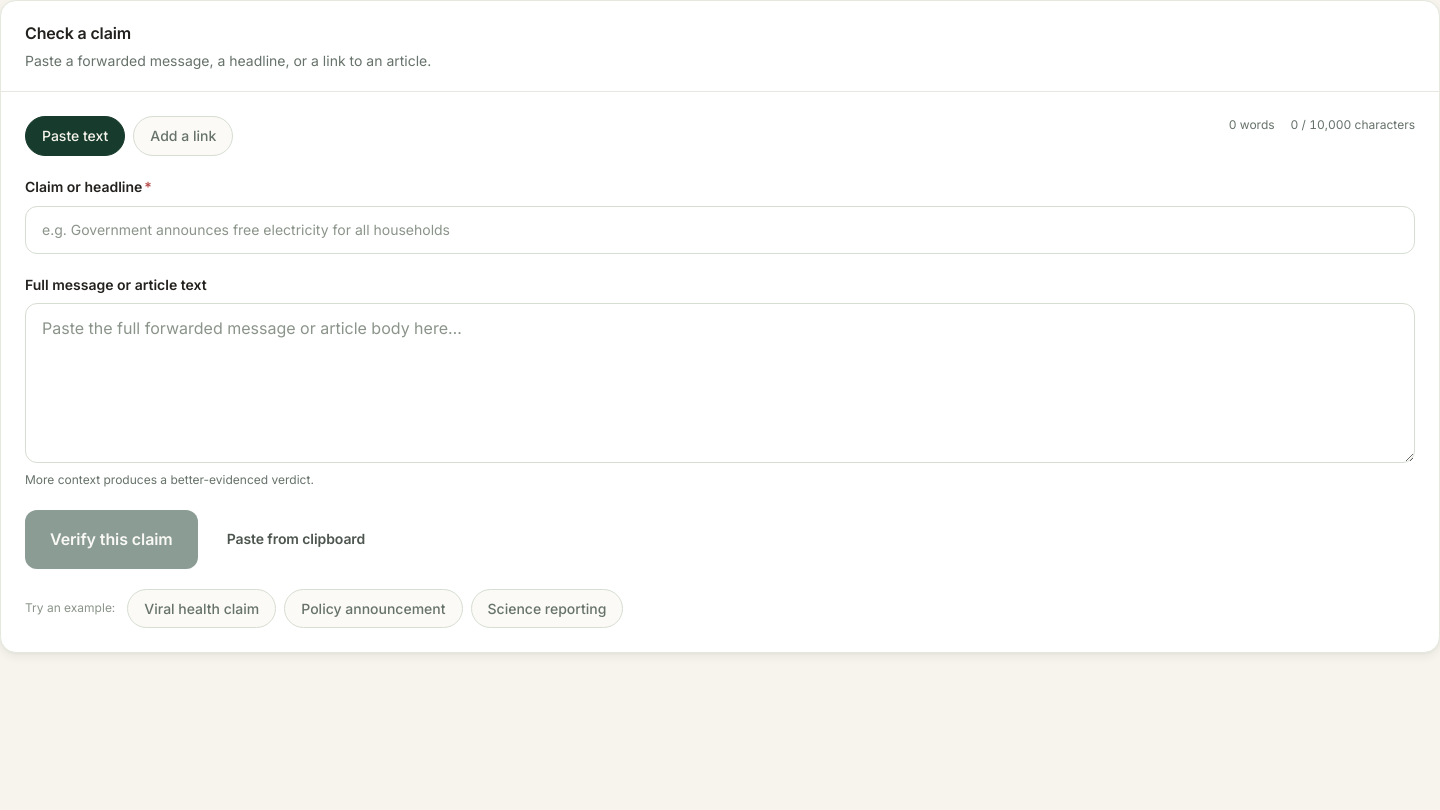
Test case: TC-FLOW-01 VerifyWorkspace input handling › reveals the link field only in link mode
Check: the field labelled "Source link" is not shown
Step 1. Click the button "Add a link" → (183,136), box left=133, top=116, right=233, bottom=156
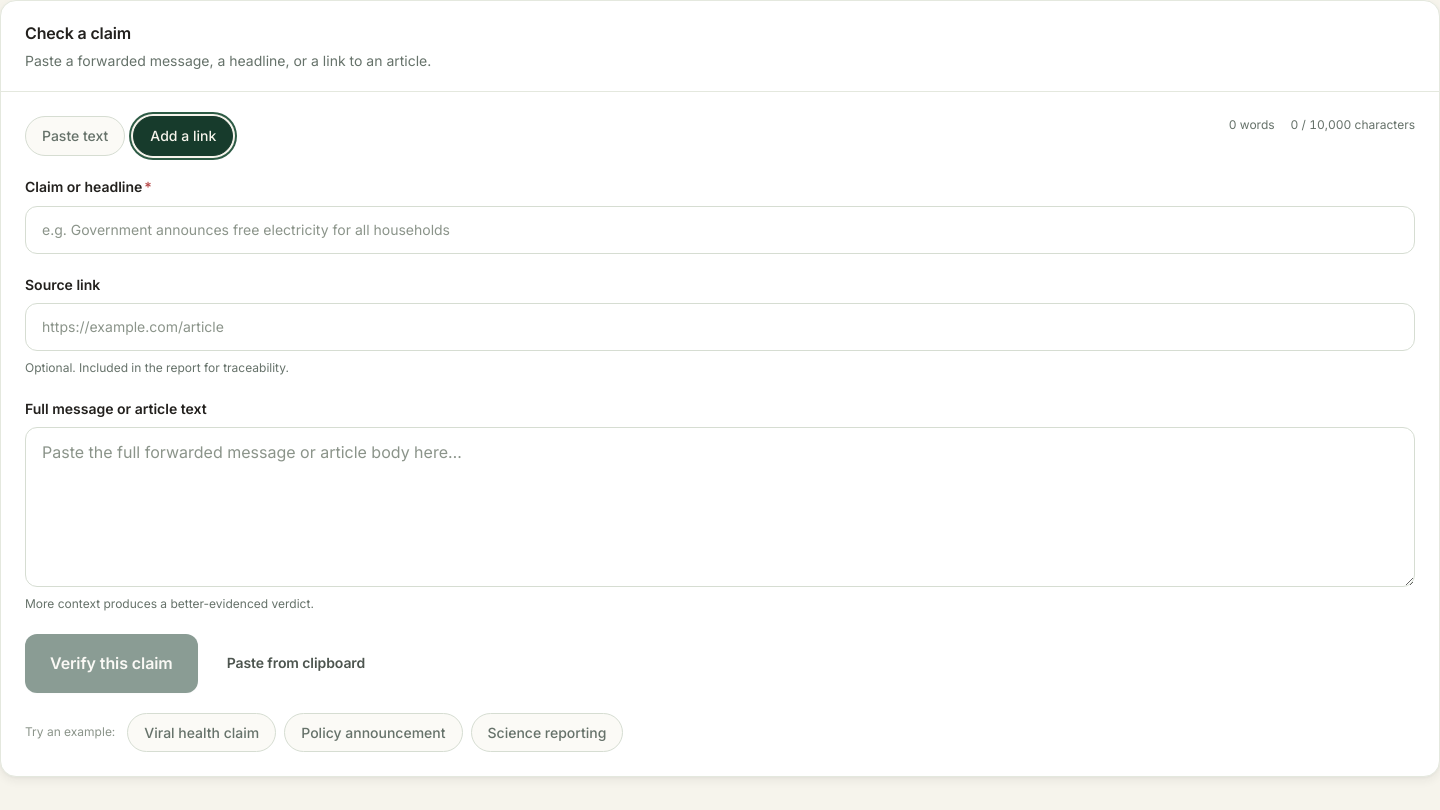
Check: the field labelled "Source link" is shown, box left=25, top=303, right=1415, bottom=351
